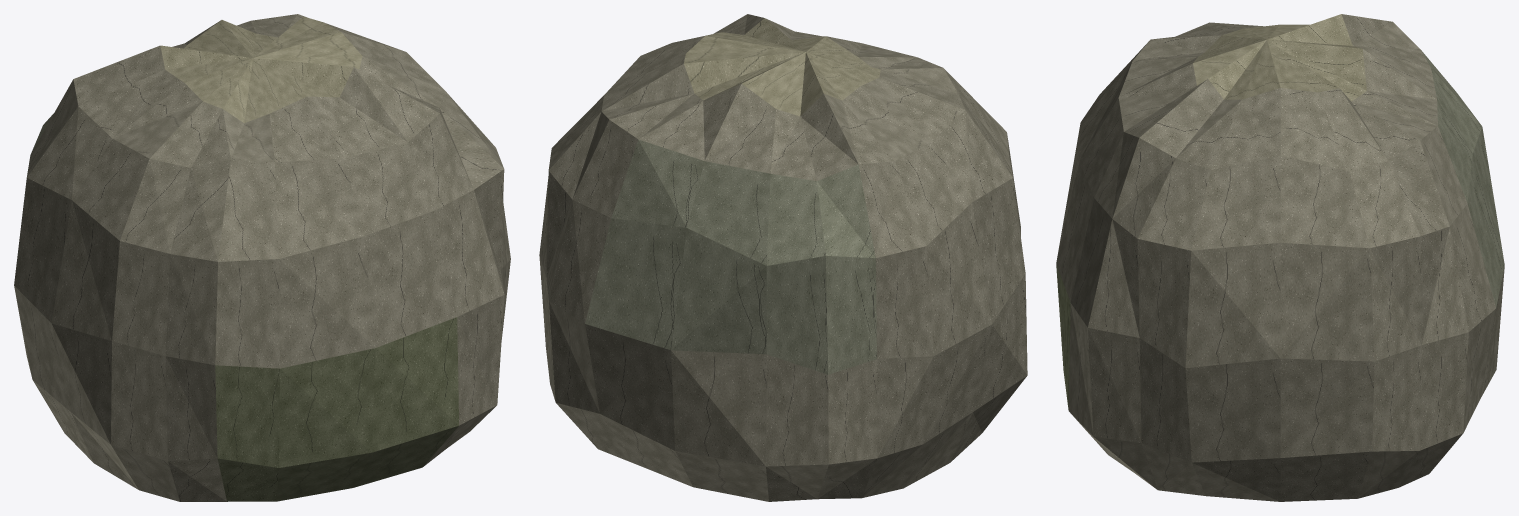
Rendered from SM_QD_Reef_D_RoundedReef.fbx.
3 renders of one model, left to right at view 1: azimuth 30°, elevation 25°; view 2: azimuth 150°, elevation 25°; view 3: azimuth 270°, elevation 25°, orthographic.
Parts seen in each view (by area): view 1: SM_QD_Reef_D_RoundedReef; view 2: SM_QD_Reef_D_RoundedReef; view 3: SM_QD_Reef_D_RoundedReef.
Boxes of the visible parts, x1,y1,x2,y2 form: SM_QD_Reef_D_RoundedReef: (14,14,510,501); SM_QD_Reef_D_RoundedReef: (539,14,1027,501); SM_QD_Reef_D_RoundedReef: (1056,14,1504,501).
Size of the model in its own units: 3.8 by 3.5 by 3.2.
Materials: 1 (1 with a texture image).
